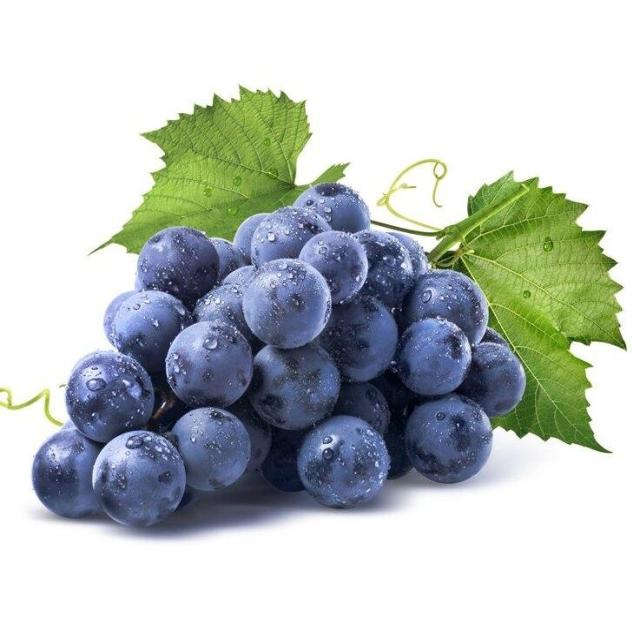grape: (45, 162, 542, 547)
